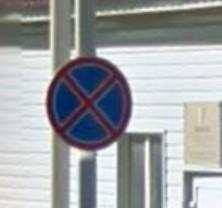No Parking: (47, 57, 133, 151)
